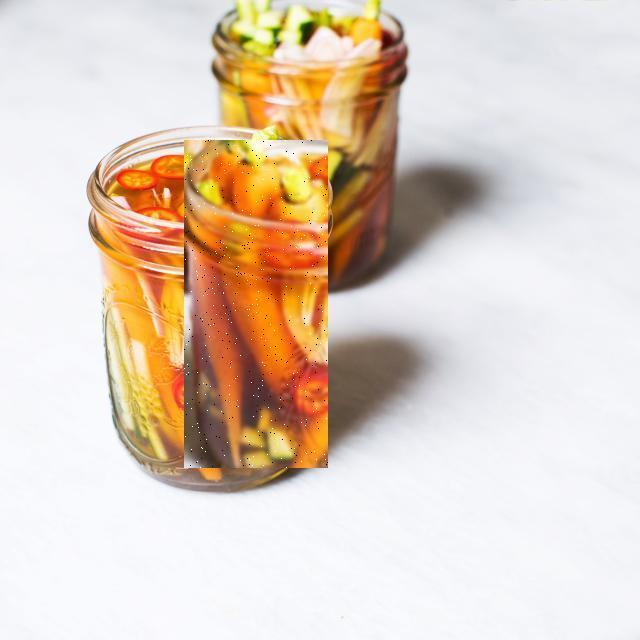carrot: (20, 234, 348, 640)
